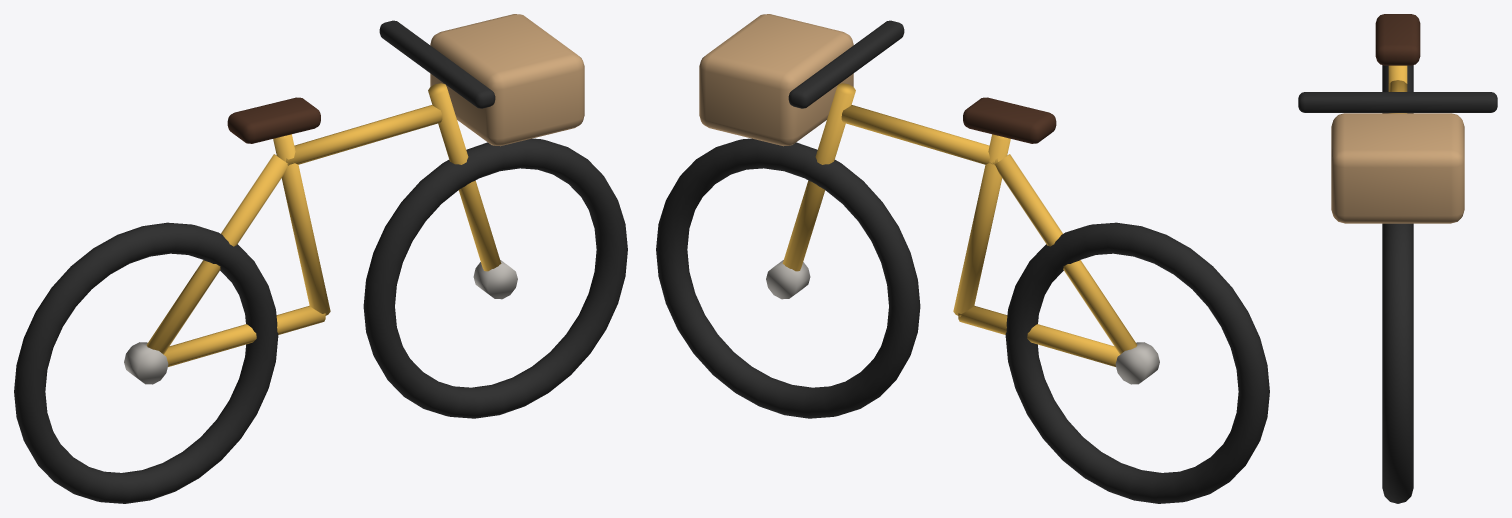
The model's file is velo.glb.
The picture shows the model from 3 angles, left to right: view 1: azimuth 30°, elevation 25°; view 2: azimuth 150°, elevation 25°; view 3: azimuth 270°, elevation 25°; orthographic projection.
Visible parts, largest first — view 1: roue-0.45, roue0.45, panier, arriere, selle_tube, avant, haut, guidon, selle, bas, moyeu-0.45, moyeu0.45; view 2: roue-0.45, roue0.45, panier, arriere, selle_tube, avant, haut, guidon, selle, bas, moyeu-0.45, moyeu0.45; view 3: panier, roue0.45, guidon, selle, roue-0.45, selle_tube.
Part boxes in pixels (x1=…): roue-0.45: x1=14, y1=222, x2=278, y2=503; roue0.45: x1=363, y1=138, x2=627, y2=418; panier: x1=430, y1=14, x2=584, y2=146; arriere: x1=146, y1=154, x2=288, y2=354; selle_tube: x1=273, y1=134, x2=330, y2=315; avant: x1=428, y1=83, x2=501, y2=271; haut: x1=286, y1=105, x2=442, y2=165; guidon: x1=379, y1=20, x2=495, y2=108; selle: x1=227, y1=97, x2=320, y2=143; bas: x1=164, y1=305, x2=325, y2=366; moyeu-0.45: x1=124, y1=342, x2=168, y2=384; moyeu0.45: x1=473, y1=260, x2=517, y2=299; roue-0.45: x1=1005, y1=222, x2=1269, y2=503; roue0.45: x1=656, y1=138, x2=920, y2=418; panier: x1=699, y1=14, x2=853, y2=146; arriere: x1=995, y1=154, x2=1137, y2=354; selle_tube: x1=953, y1=134, x2=1010, y2=316; avant: x1=782, y1=83, x2=855, y2=271; haut: x1=841, y1=105, x2=997, y2=165; guidon: x1=788, y1=20, x2=904, y2=108; selle: x1=963, y1=97, x2=1056, y2=143; bas: x1=958, y1=305, x2=1119, y2=366; moyeu-0.45: x1=1115, y1=342, x2=1159, y2=384; moyeu0.45: x1=766, y1=260, x2=810, y2=299; panier: x1=1331, y1=113, x2=1464, y2=223; roue0.45: x1=1382, y1=223, x2=1413, y2=503; guidon: x1=1298, y1=92, x2=1497, y2=112; selle: x1=1375, y1=14, x2=1420, y2=65; roue-0.45: x1=1382, y1=65, x2=1413, y2=113; selle_tube: x1=1388, y1=65, x2=1407, y2=83.
Size of the model in its own units: 1.57 by 0.915 by 0.45.
